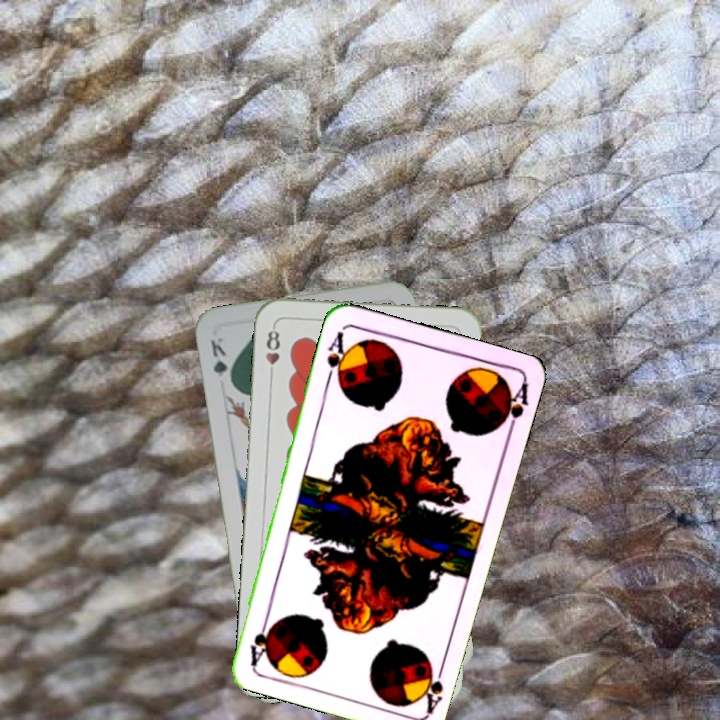GK: (206, 333, 235, 389)
H8: (262, 322, 283, 381)
SA: (414, 656, 448, 716), (322, 327, 352, 387)
